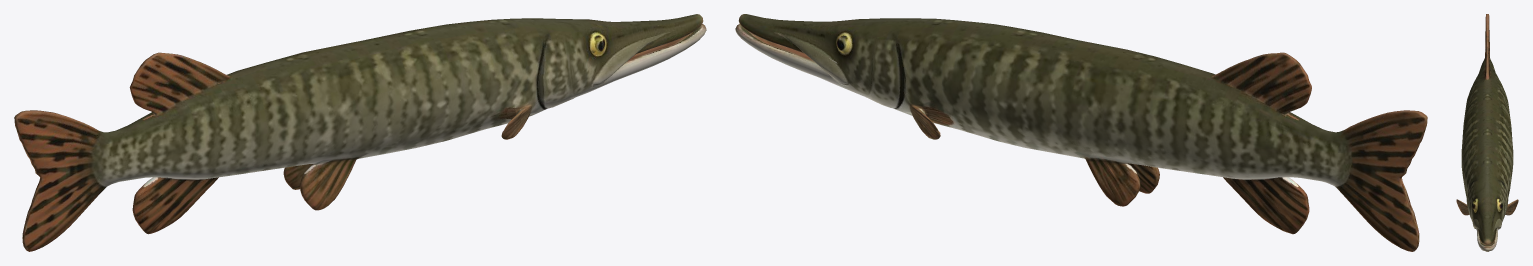
The model's file is muskellunge.glb.
3 views of the same model, side by side, from view 1: azimuth 30°, elevation 25°; view 2: azimuth 150°, elevation 25°; view 3: azimuth 270°, elevation 25° (orthographic). The views are drawn at different scales.
Visible parts, largest first — view 1: fish; view 2: fish; view 3: fish.
Boxes of the visible parts, left/top/right/bottom form: fish: left=14, top=14, right=706, bottom=251; fish: left=735, top=14, right=1427, bottom=251; fish: left=1456, top=14, right=1518, bottom=251.
Bounding box in the file's own units: 1 × 0.2562 × 0.1376.
1 material, 1 textured.
